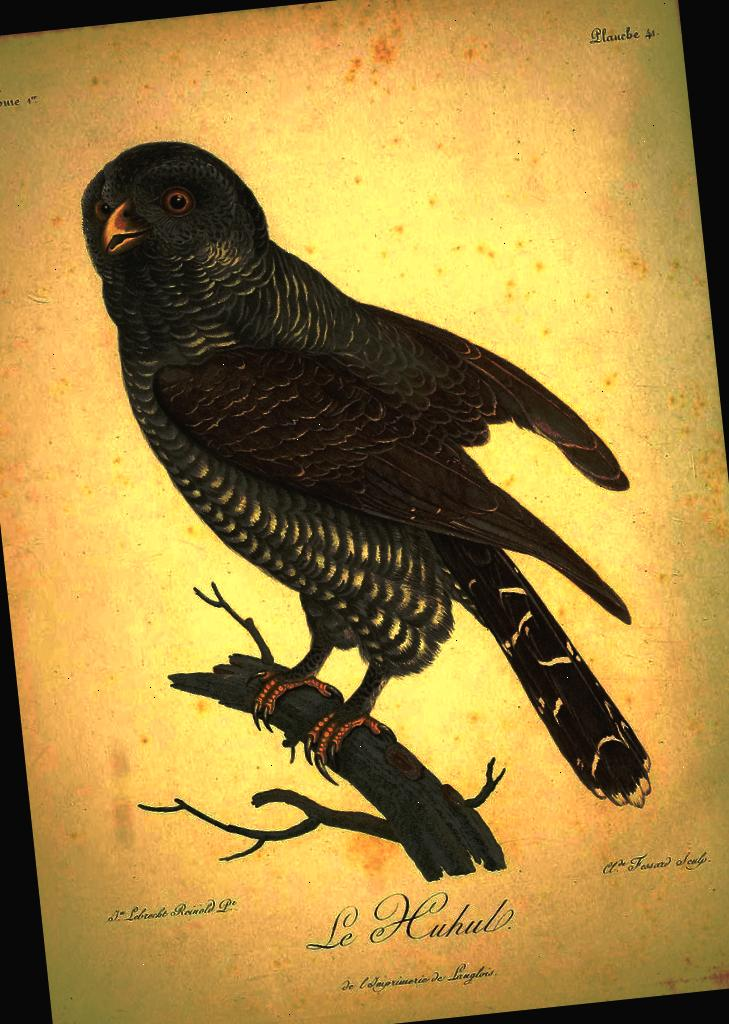Owl: (56, 89, 666, 869)
